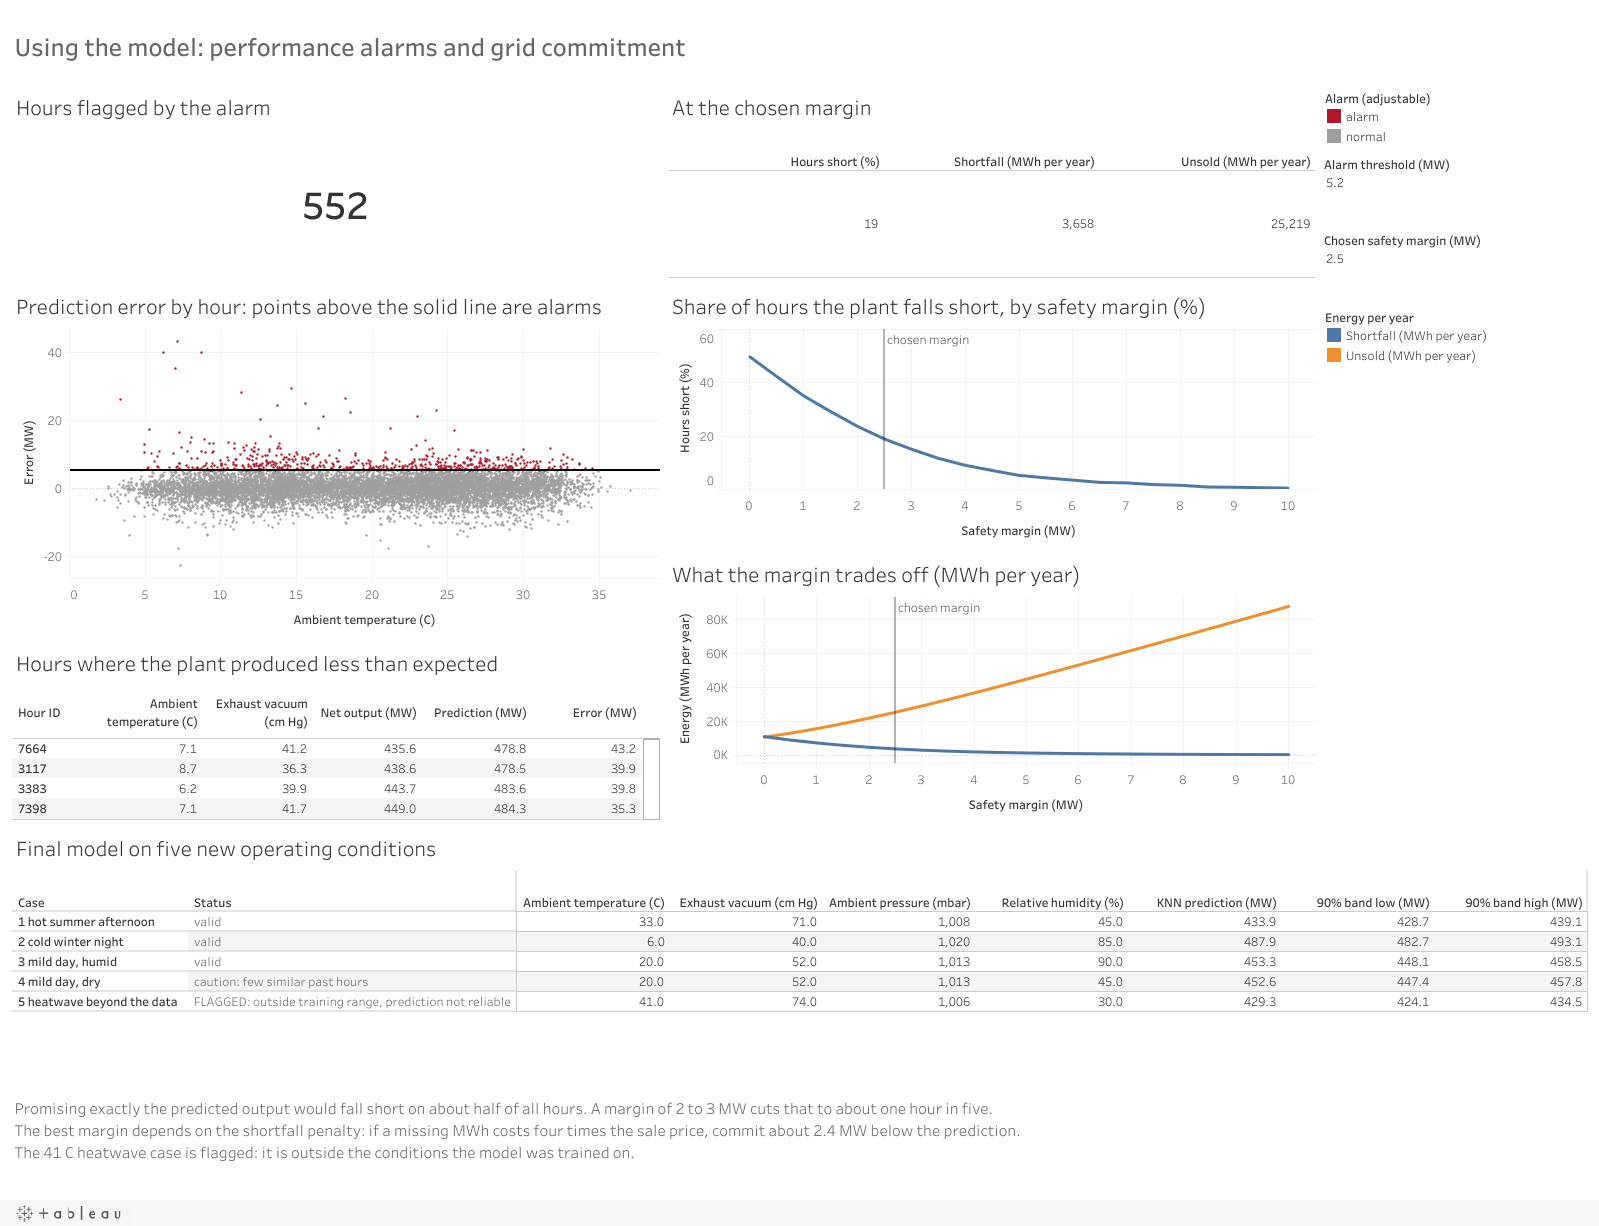

What the dashboard file says about the page in this screenshot:
{"tool":"tableau","page":{"name":"Decision support","canvas":[1600,1200],"ordinal":0},"visuals":[{"type":"text","box":[8,8,1584,75.2]},{"type":"worksheet","title":"KPI alarm hours","mark":"Automatic","box":[8,83.2,656,199.2]},{"type":"worksheet","title":"Margin KPI","mark":"Automatic","box":[664,83.2,656,199.2]},{"type":"legend","title":"Error vs temperature","param":"[federated.0cw6bld19u7vyt1air5vq1tj6jl8].[none:Calculation_0263118111055873:nk]","box":[1320,83.2,272,66]},{"type":"parameter","param":"[Parameters].[Parameter 0263118110720000]","box":[1320,149.2,272,75]},{"type":"parameter","param":"[Parameters].[Parameter 0263118112350211]","box":[1320,224.2,272,75]},{"type":"worksheet","title":"Error vs temperature","mark":"Circle","rows":["Error (MW)"],"cols":["Ambient temperature (C)"],"box":[8,282.5,656,356.3]},{"type":"worksheet","title":"Margin risk","mark":"Line","rows":["Hours short (%)"],"cols":["Safety margin (MW)"],"box":[664,282.5,656,267.5]},{"type":"legend","title":"Margin energy","param":"[federated.1euyxsw1q097m11c5ndab16okjao].[:Measure Names]","box":[1320,299.2,272,66]},{"type":"worksheet","title":"Margin energy","mark":"Line","cols":["Safety margin (MW)"],"box":[664,550,656,274]},{"type":"worksheet","title":"Alarm hours table","mark":"Automatic","rows":["Hour ID"],"box":[8,638.8,656,185.2]},{"type":"worksheet","title":"Unseen cases","mark":"Automatic","rows":["Case","status"],"box":[8,824,1584,243.7]},{"type":"text","box":[8,1067.7,1584,124.3]}]}

Visuals, with their boxes on the page's 1600x1200 design canvas (x1, y1, x2, y2). These are canvas units, not pixel positions in the 1599x1226 screenshot, which may show the page scaled, cropped or inside an application window:
text: x1=8 y1=8 x2=1592 y2=83
"KPI alarm hours" worksheet: x1=8 y1=83 x2=664 y2=282
"Margin KPI" worksheet: x1=664 y1=83 x2=1320 y2=282
"Error vs temperature" legend: x1=1320 y1=83 x2=1592 y2=149
parameter: x1=1320 y1=149 x2=1592 y2=224
parameter: x1=1320 y1=224 x2=1592 y2=299
"Error vs temperature" worksheet (Circle marks): x1=8 y1=282 x2=664 y2=639
"Margin risk" worksheet (Line marks): x1=664 y1=282 x2=1320 y2=550
"Margin energy" legend: x1=1320 y1=299 x2=1592 y2=365
"Margin energy" worksheet (Line marks): x1=664 y1=550 x2=1320 y2=824
"Alarm hours table" worksheet: x1=8 y1=639 x2=664 y2=824
"Unseen cases" worksheet: x1=8 y1=824 x2=1592 y2=1068
text: x1=8 y1=1068 x2=1592 y2=1192
